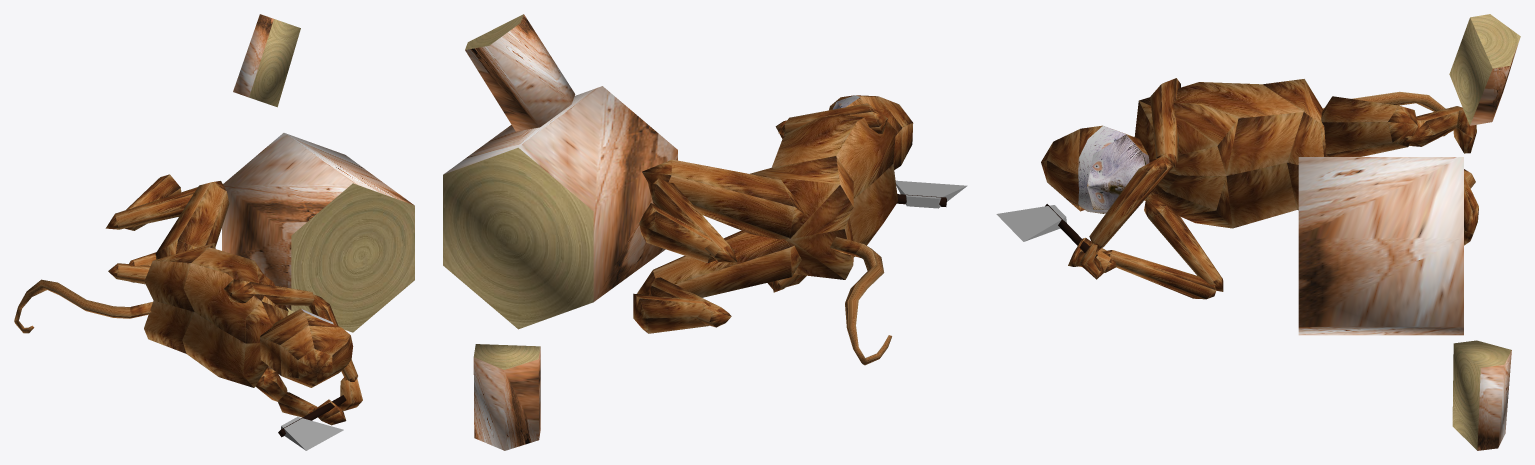
The model's file is monkey_000514.obj.
3 views of the same model, side by side, from view 1: azimuth 30°, elevation 25°; view 2: azimuth 150°, elevation 25°; view 3: azimuth 270°, elevation 25° (orthographic). The views are drawn at different scales.
Visible parts, largest first — view 1: table_Cylinder.015, Cylinder_Cylinder.001, head.002_Sphere.002, log2_Cylinder.016, Cylinder.001_Cylinder.002, Cylinder.013_Cylinder, Cylinder.004_Cylinder.005, axe_Cylinder.014, Cylinder.008_Cylinder.009, Cylinder.006_Cylinder.007, Cylinder.009_Cylinder.011, Cylinder.011_Cylinder.013 (+4 smaller); view 2: table_Cylinder.015, Cylinder_Cylinder.001, log2_Cylinder.016, Cylinder.001_Cylinder.002, log_Cylinder.017, Cylinder.002_Cylinder.003, Cylinder.006_Cylinder.007, Cylinder.005_Cylinder.006, Cylinder.013_Cylinder, Cylinder.004_Cylinder.005, head.002_Sphere.002, axe_Cylinder.014 (+2 smaller); view 3: table_Cylinder.015, Cylinder_Cylinder.001, head.002_Sphere.002, log_Cylinder.017, log2_Cylinder.016, Cylinder.001_Cylinder.002, Cylinder.009_Cylinder.011, Cylinder.011_Cylinder.013, Cylinder.010_Cylinder.012, Cylinder.008_Cylinder.009, axe_Cylinder.014, Cylinder.004_Cylinder.005 (+4 smaller).
Part boxes in pixels (x1=…): table_Cylinder.015: x1=222, y1=133, x2=414, y2=332; Cylinder_Cylinder.001: x1=144, y1=243, x2=288, y2=387; head.002_Sphere.002: x1=260, y1=308, x2=353, y2=387; log2_Cylinder.016: x1=233, y1=14, x2=300, y2=107; Cylinder.001_Cylinder.002: x1=155, y1=181, x2=229, y2=259; Cylinder.013_Cylinder: x1=14, y1=279, x2=152, y2=333; Cylinder.004_Cylinder.005: x1=105, y1=187, x2=197, y2=229; axe_Cylinder.014: x1=278, y1=395, x2=346, y2=450; Cylinder.008_Cylinder.009: x1=224, y1=279, x2=314, y2=305; Cylinder.006_Cylinder.007: x1=125, y1=174, x2=181, y2=230; Cylinder.009_Cylinder.011: x1=308, y1=294, x2=357, y2=381; Cylinder.011_Cylinder.013: x1=255, y1=367, x2=287, y2=401; table_Cylinder.015: x1=443, y1=86, x2=677, y2=329; Cylinder_Cylinder.001: x1=750, y1=114, x2=897, y2=279; log2_Cylinder.016: x1=465, y1=14, x2=575, y2=131; Cylinder.001_Cylinder.002: x1=642, y1=159, x2=804, y2=239; log_Cylinder.017: x1=473, y1=344, x2=540, y2=450; Cylinder.002_Cylinder.003: x1=637, y1=230, x2=801, y2=297; Cylinder.006_Cylinder.007: x1=639, y1=203, x2=715, y2=263; Cylinder.005_Cylinder.006: x1=633, y1=293, x2=710, y2=333; Cylinder.013_Cylinder: x1=830, y1=236, x2=891, y2=365; Cylinder.004_Cylinder.005: x1=648, y1=178, x2=737, y2=262; head.002_Sphere.002: x1=829, y1=95, x2=913, y2=169; axe_Cylinder.014: x1=895, y1=180, x2=967, y2=208; table_Cylinder.015: x1=1298, y1=157, x2=1463, y2=335; Cylinder_Cylinder.001: x1=1134, y1=79, x2=1328, y2=228; head.002_Sphere.002: x1=1041, y1=125, x2=1149, y2=213; log_Cylinder.017: x1=1452, y1=340, x2=1511, y2=450; log2_Cylinder.016: x1=1449, y1=14, x2=1520, y2=125; Cylinder.001_Cylinder.002: x1=1321, y1=96, x2=1418, y2=156; Cylinder.009_Cylinder.011: x1=1089, y1=155, x2=1173, y2=252; Cylinder.011_Cylinder.013: x1=1144, y1=197, x2=1223, y2=291; Cylinder.010_Cylinder.012: x1=1102, y1=250, x2=1216, y2=299; Cylinder.008_Cylinder.009: x1=1150, y1=78, x2=1180, y2=167; axe_Cylinder.014: x1=996, y1=204, x2=1097, y2=257; Cylinder.004_Cylinder.005: x1=1404, y1=106, x2=1463, y2=146.
Bounding box in the file's own units: 1.98 × 1.93 × 2.21.
